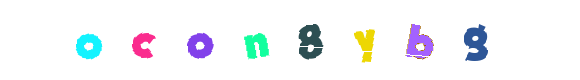8: (270, 0, 350, 80)
B: (335, 0, 415, 80)
C: (102, 0, 182, 80)
G: (427, 0, 507, 80)
N: (249, 0, 329, 80)
O: (49, 0, 129, 80), (216, 0, 296, 80)
Y: (279, 0, 359, 80)
